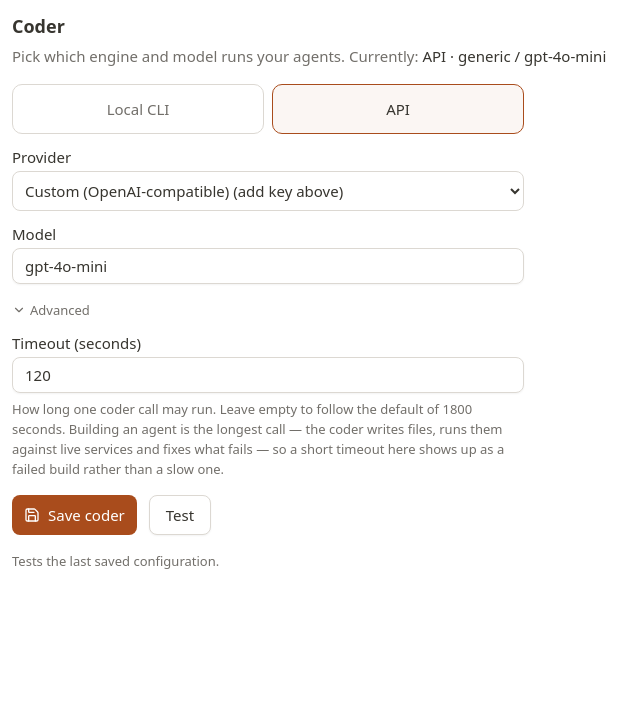
Scenario: API engine: custom provider without a base URL blocks save with a client-side error
Expected: the dropdown labelled "Provider" shows "Custom (OpenAI-compatible) (add key above)", [12, 171, 524, 211]
Step 1. Click the button "Save coder" → x=74, y=515, box [12, 495, 137, 535]
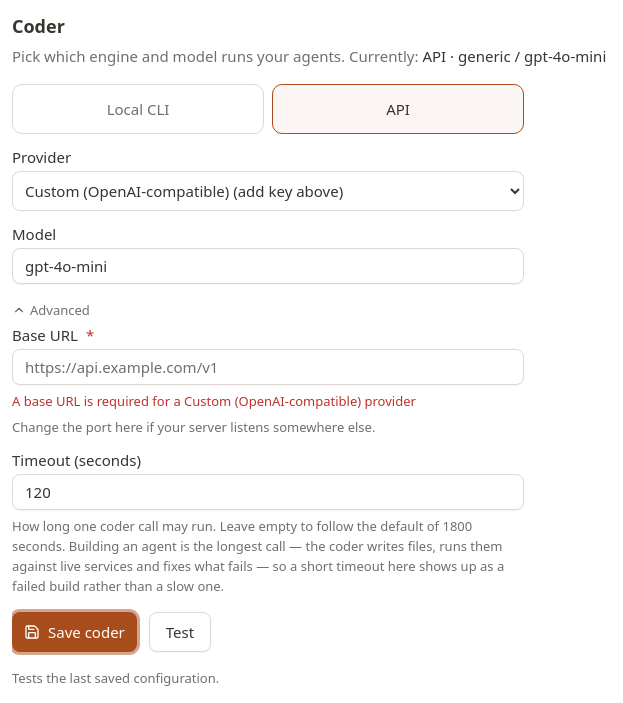
Result: the text "base URL is required" is shown at [12, 392, 416, 410]
